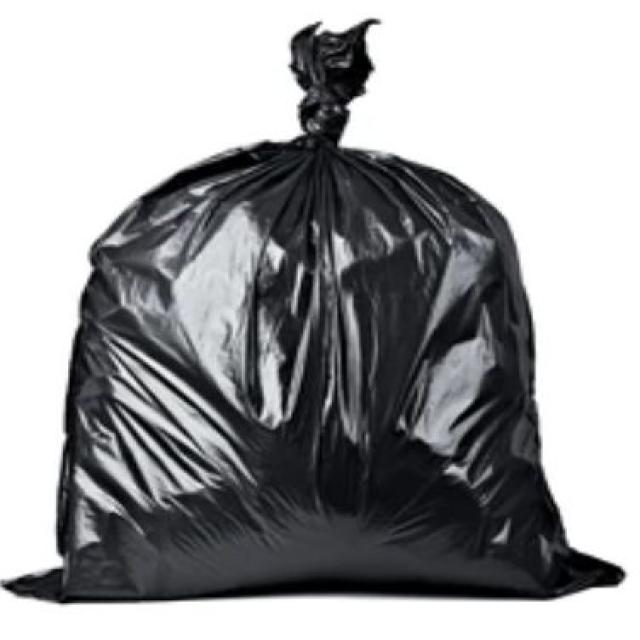general: (0, 15, 626, 605)
